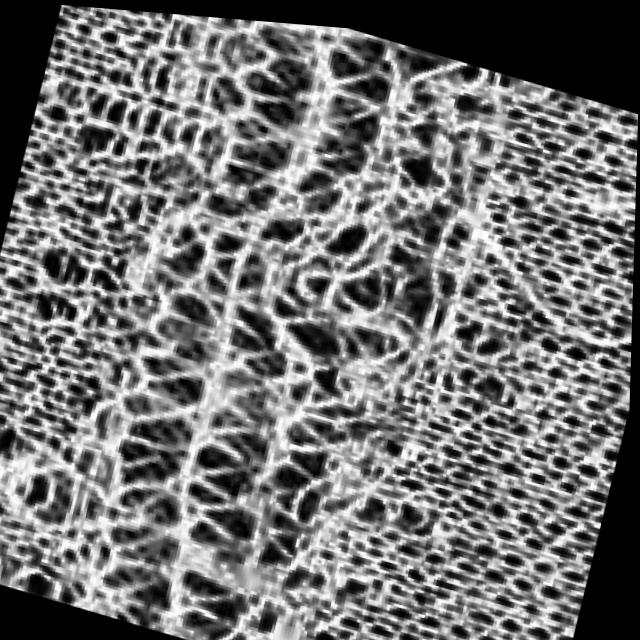Hole: (25, 3, 624, 640)
